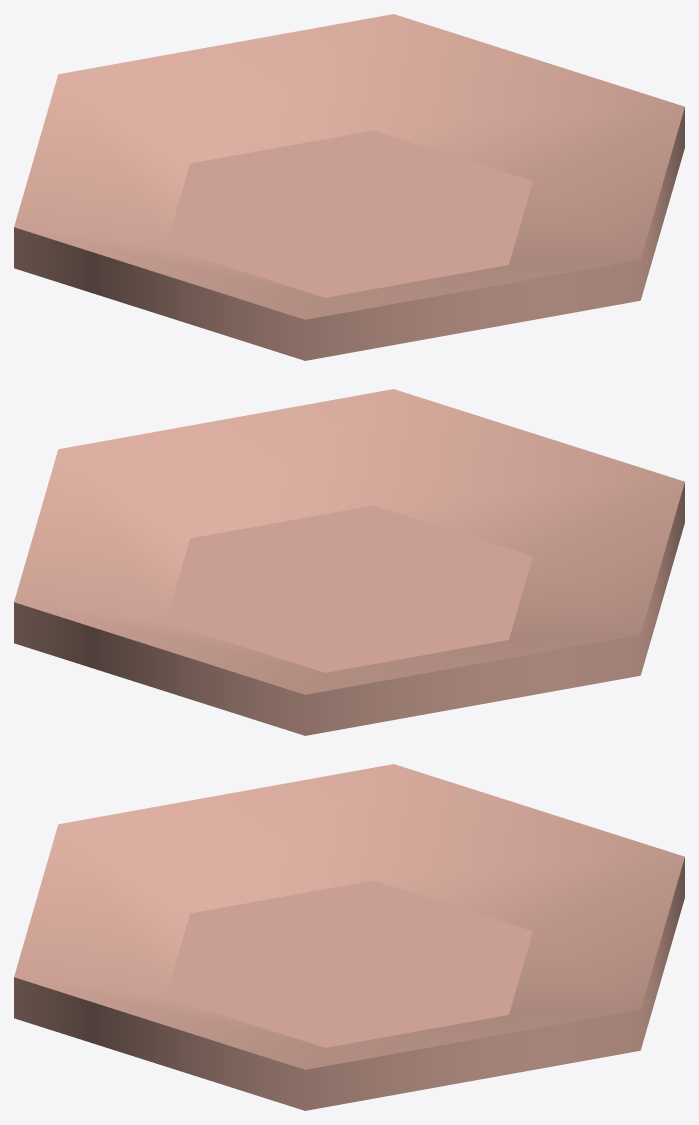
File: n4_plate_001_lev4.glb
3 renders of one model, top to bottom at view 1: azimuth 30°, elevation 25°; view 2: azimuth 150°, elevation 25°; view 3: azimuth 270°, elevation 25°, orthographic.
Visible parts, largest first — view 1: n4_plate_001_lev4; view 2: n4_plate_001_lev4; view 3: n4_plate_001_lev4.
Boxes of the visible parts, x1=… form: n4_plate_001_lev4: x1=14, y1=14, x2=684, y2=360; n4_plate_001_lev4: x1=14, y1=389, x2=684, y2=735; n4_plate_001_lev4: x1=14, y1=764, x2=684, y2=1110.
Bounding box in the file's own units: 1.08 × 0.1382 × 0.9978.
Materials: 1 (1 with a texture image).
